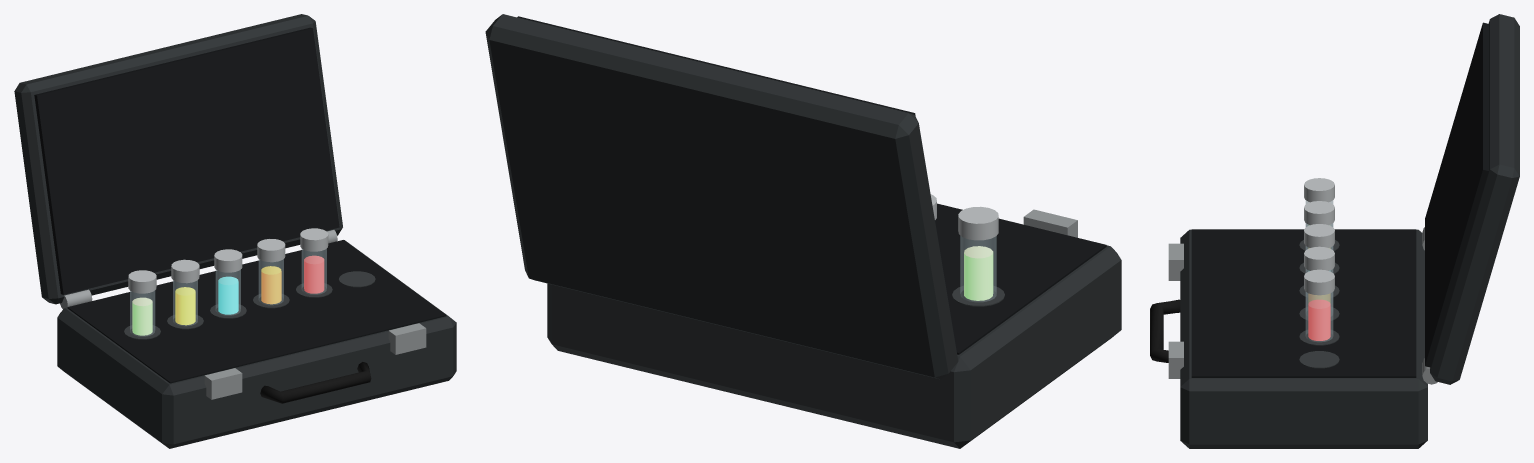
File: dna_case.glb
The picture shows the model from 3 angles, left to right: view 1: azimuth 30°, elevation 25°; view 2: azimuth 150°, elevation 25°; view 3: azimuth 270°, elevation 25°; orthographic projection. The views are drawn at different scales.
Visible parts, largest first — view 1: dna_case; view 2: dna_case; view 3: dna_case.
Part boxes in pixels (box(x1,y1,x2,y2)): dna_case: box(14, 14, 456, 448); dna_case: box(485, 14, 1121, 448); dna_case: box(1150, 14, 1519, 448).
Bounding box in the file's own units: 0.48 × 0.4065 × 0.4777.
